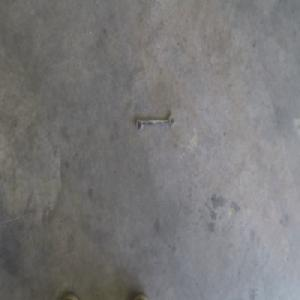Wrench: (134, 114, 175, 132)
